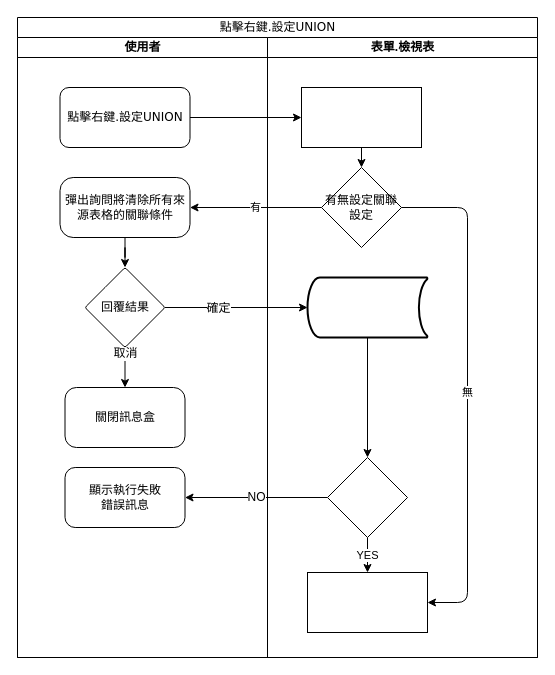
This 555x675 diagram has some shape labels left out. The box of each missing label's shape, as (x1, y1, x2, y2) in pixels:
執行成功: (326, 456, 408, 538)
清除所有參考來源聯結設定的聯結條件: (306, 276, 428, 338)
重顯結構展開清單: (306, 572, 428, 632)
關閉選單: (300, 86, 422, 148)
